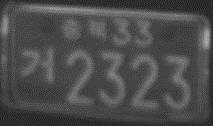2: (65, 48, 97, 105), (130, 53, 161, 109)
3: (164, 55, 191, 110), (99, 51, 126, 105), (111, 18, 131, 46), (133, 20, 153, 48)
거: (20, 47, 54, 81)
충북_O: (61, 17, 107, 43)
